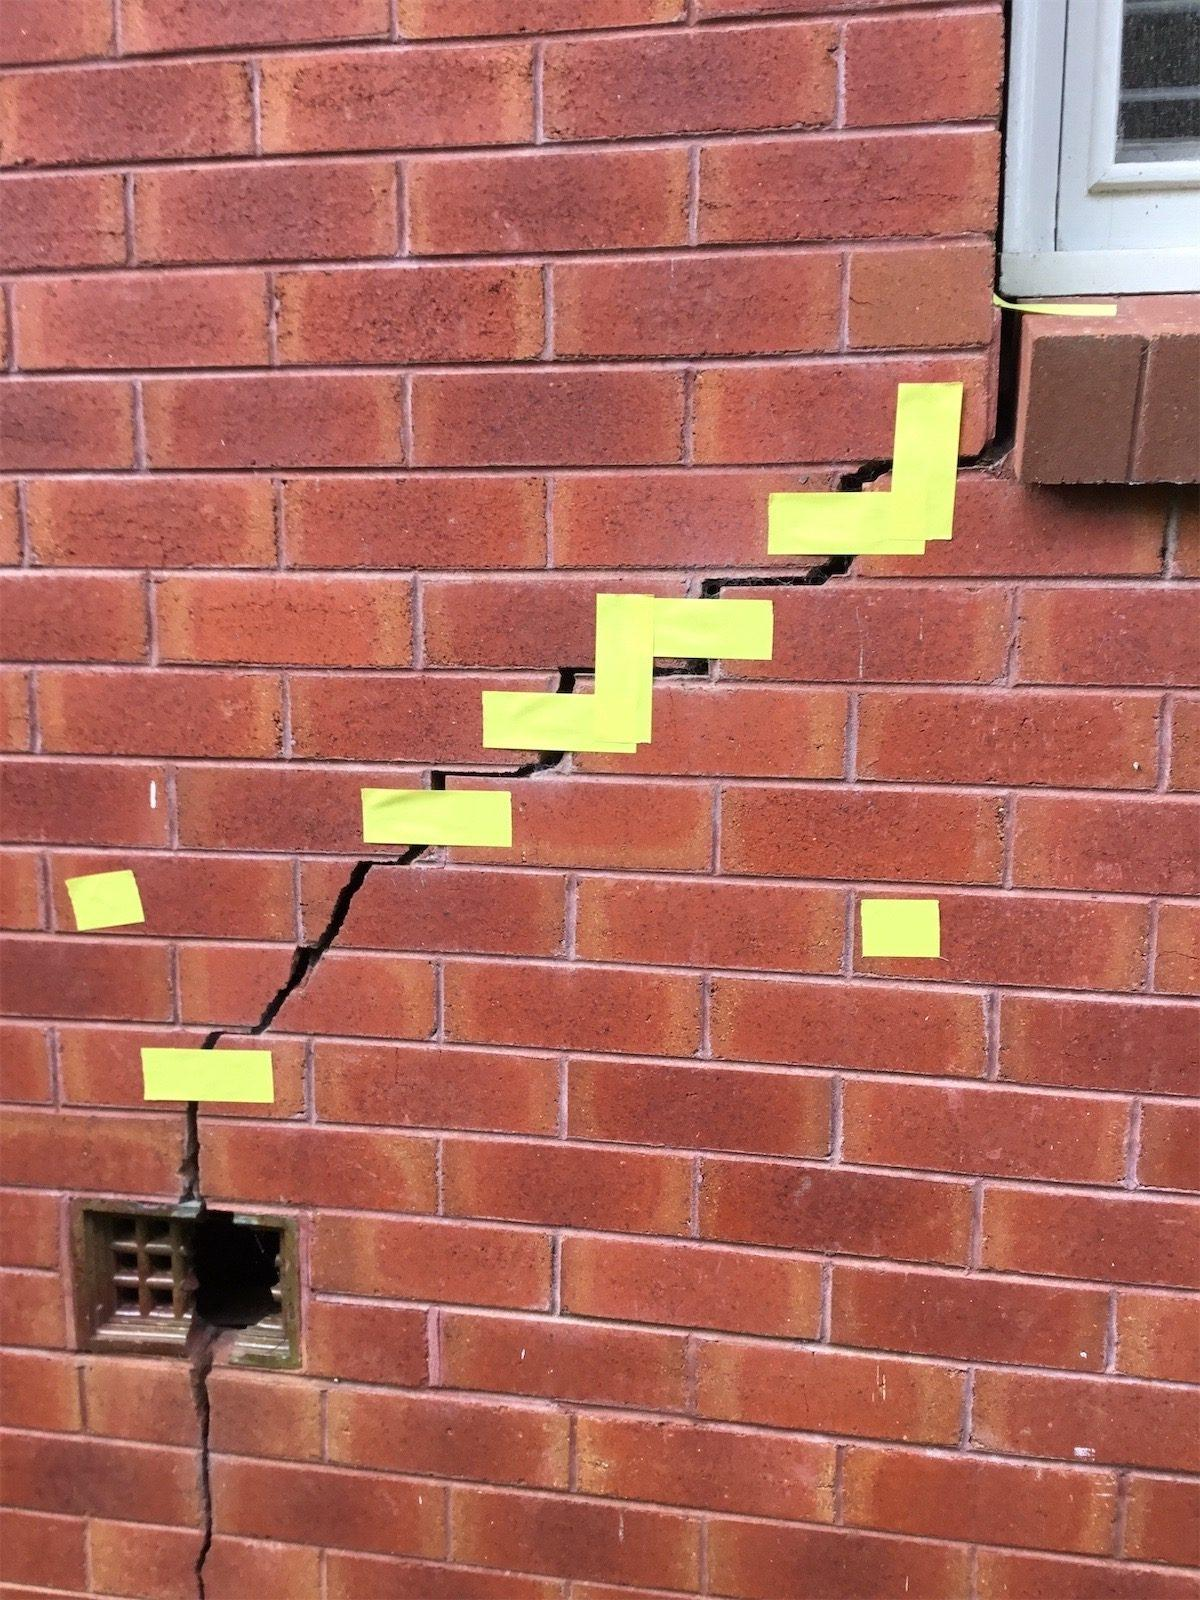Crack: (144, 847, 466, 1057), (144, 1083, 263, 1599), (957, 304, 1066, 523), (697, 543, 863, 603), (417, 747, 616, 796), (823, 437, 906, 517), (643, 654, 746, 703), (523, 654, 604, 697)
